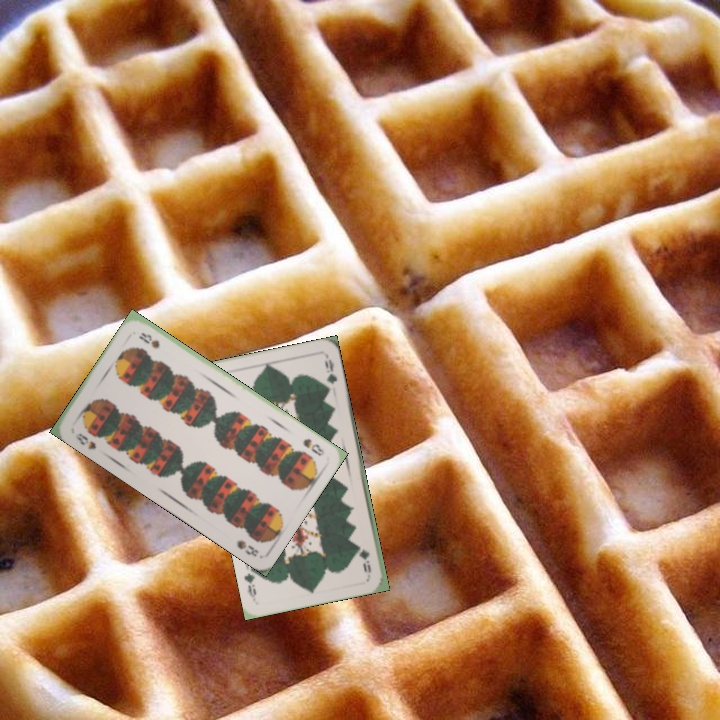G9: (357, 545, 374, 575)
S8: (299, 434, 327, 459), (72, 429, 99, 452)
